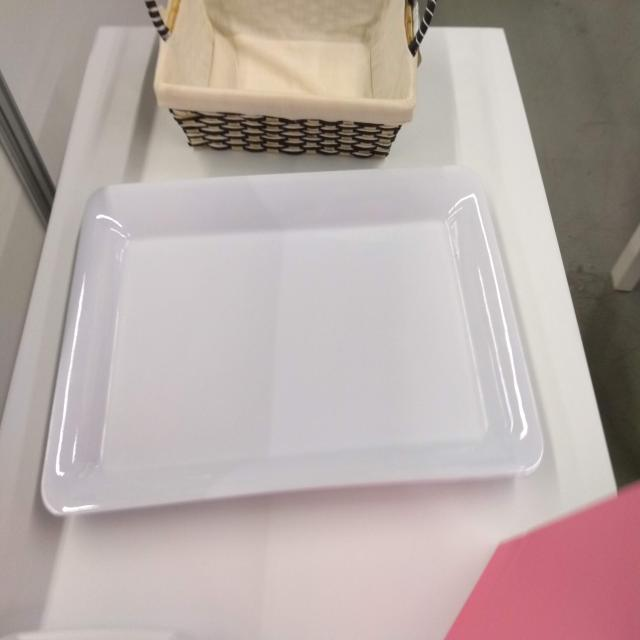tray: (35, 166, 545, 529)
